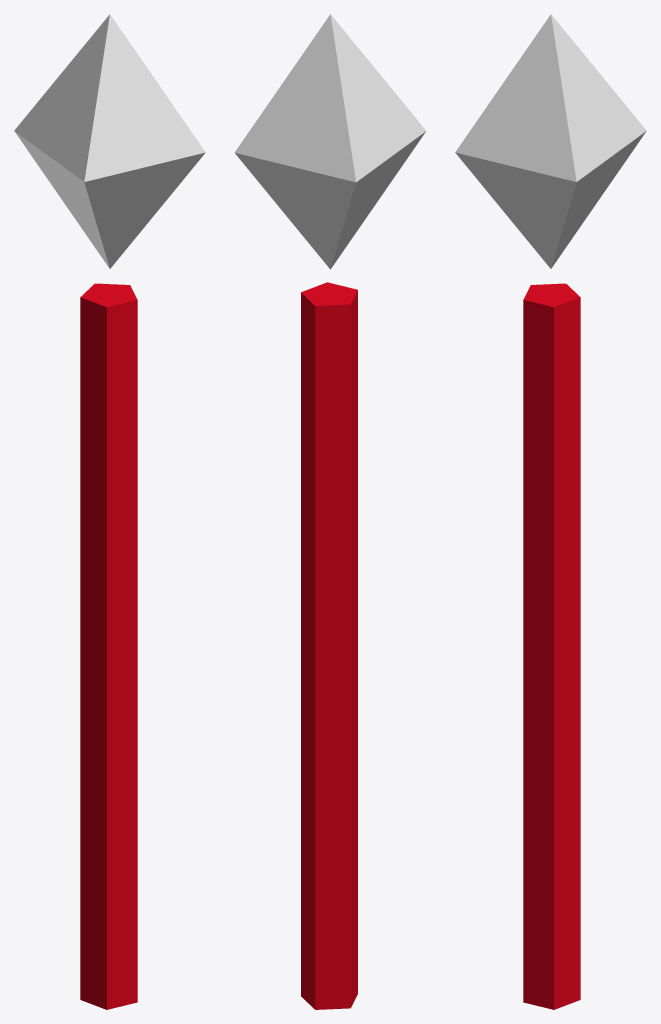
File: Shrieker.fbx
The picture shows the model from 3 angles, left to right: view 1: azimuth 30°, elevation 25°; view 2: azimuth 150°, elevation 25°; view 3: azimuth 330°, elevation 25°; orthographic projection.
Visible parts, largest first — view 1: Cylinder, Cube; view 2: Cylinder, Cube; view 3: Cylinder, Cube.
Part boxes in pixels (x1,y1,x2,y2): Cylinder: [80, 283, 137, 1009]; Cube: [14, 14, 205, 268]; Cylinder: [301, 282, 357, 1009]; Cube: [234, 14, 425, 269]; Cylinder: [523, 283, 580, 1009]; Cube: [455, 14, 646, 268].
Bounding box in the file's own units: 200 × 1546 × 200.
